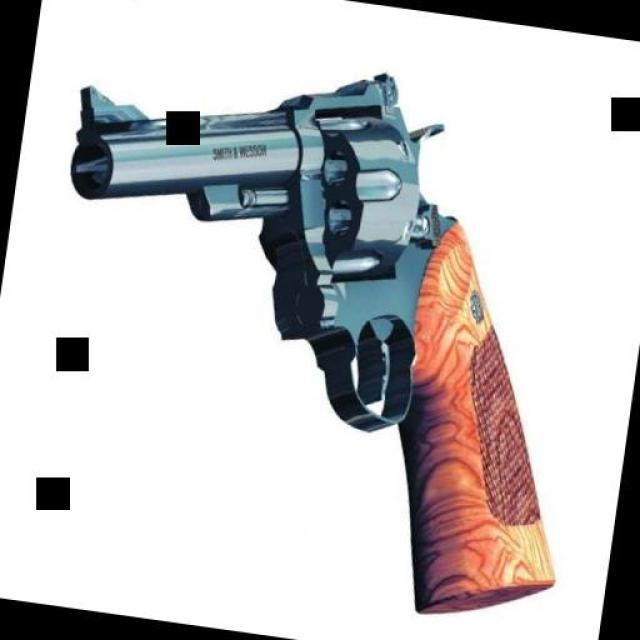gun: (7, 29, 615, 635)
